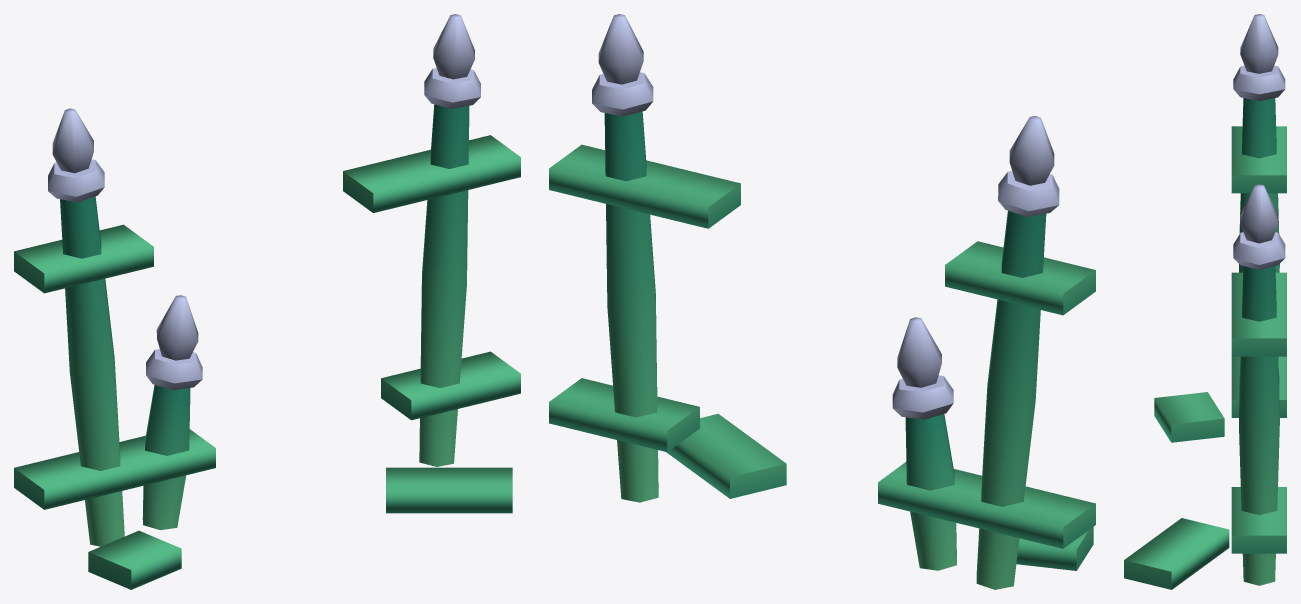
Rendered from iron-fence-damaged.glb.
3 renders of one model, left to right at view 1: azimuth 30°, elevation 25°; view 2: azimuth 150°, elevation 25°; view 3: azimuth 270°, elevation 25°, orthographic. The views are drawn at different scales.
Parts seen in each view (by area): view 1: iron-fence-damaged; view 2: iron-fence-damaged; view 3: iron-fence-damaged.
Part boxes in pixels (<box>): iron-fence-damaged: <box>14,14,520,589</box>; iron-fence-damaged: <box>549,14,1095,589</box>; iron-fence-damaged: <box>1124,14,1286,589</box>.
Size of the model in its own units: 20 by 17.61 by 6.5.
1 material, 1 textured.
